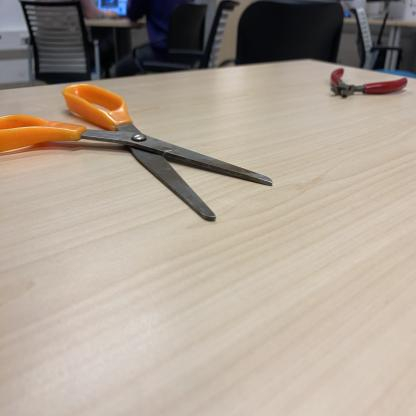scissors: (0, 84, 276, 222)
